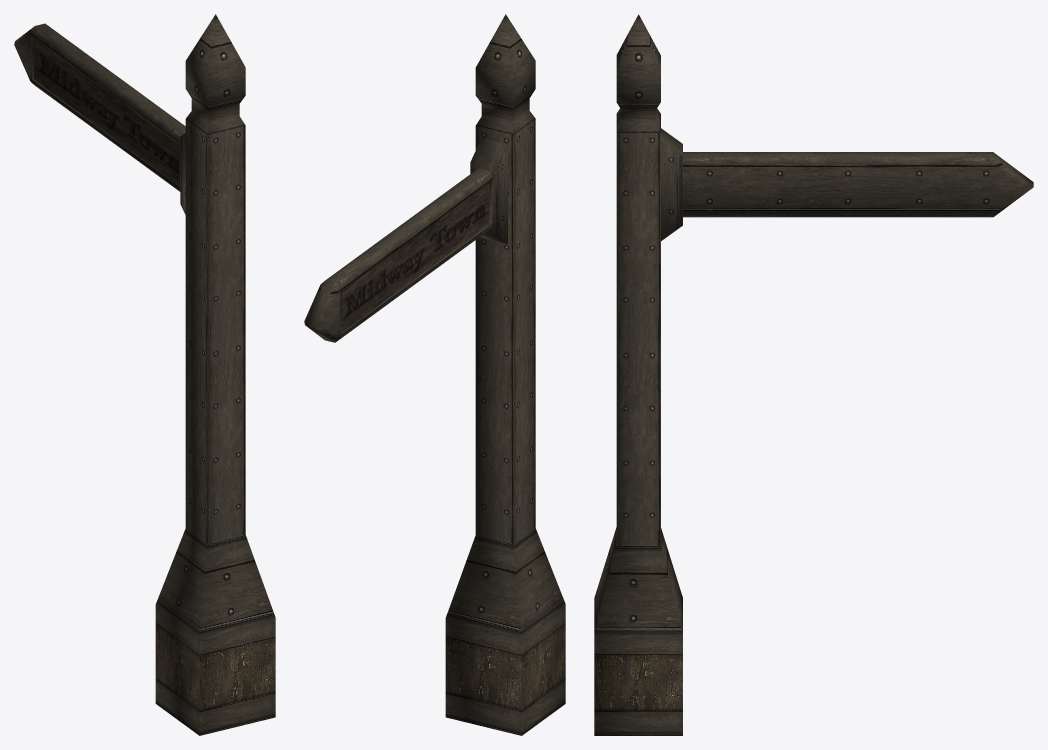
The model's file is Direction SignRedo.fbx.
The picture shows the model from 3 angles, left to right: view 1: azimuth 30°, elevation 25°; view 2: azimuth 150°, elevation 25°; view 3: azimuth 270°, elevation 25°; orthographic projection.
Visible parts, largest first — view 1: Base_Pole, Sign; view 2: Base_Pole, Sign; view 3: Base_Pole.
Boxes of the visible parts, <box> form: Base_Pole: <box>14,14,275,735</box>; Sign: <box>34,38,180,185</box>; Base_Pole: <box>304,14,565,735</box>; Sign: <box>341,183,489,331</box>; Base_Pole: <box>594,14,1033,735</box>.
Bounding box in the file's own units: 40 × 350 × 198.
